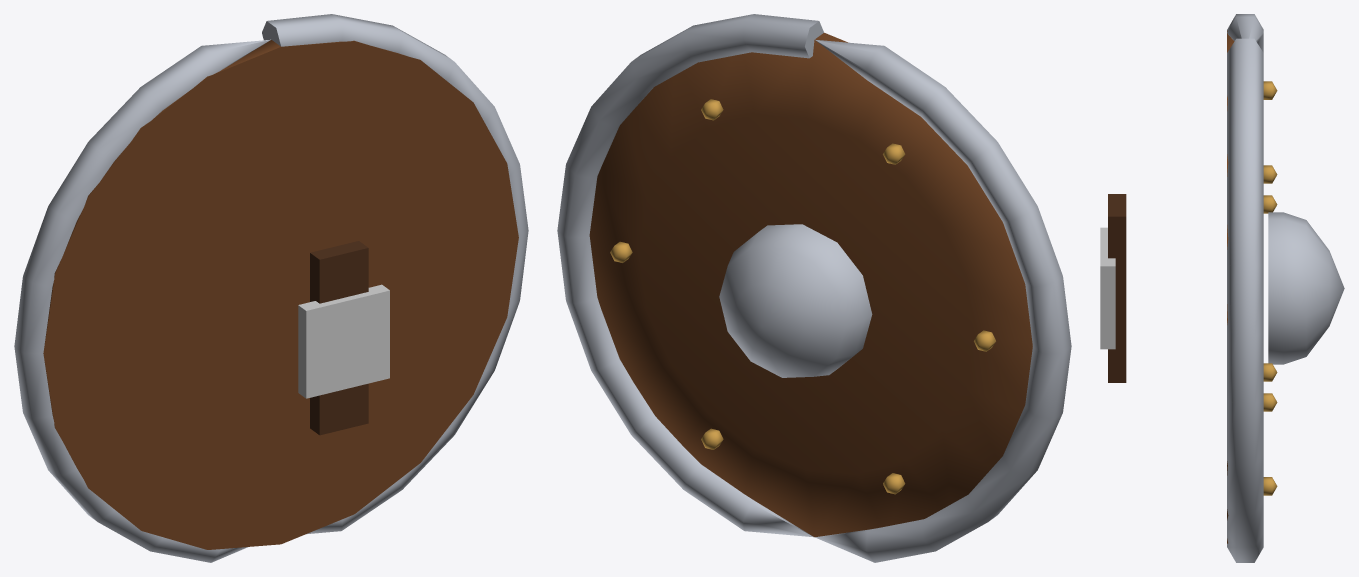
File: shield_buckler.glb
3 views of the same model, side by side, from view 1: azimuth 30°, elevation 25°; view 2: azimuth 150°, elevation 25°; view 3: azimuth 270°, elevation 25° (orthographic). The views are drawn at different scales.
Visible parts, largest first — view 1: Shield_Buckler_Wood, Shield_Buckler_Steel, Shield_Buckler_Trim, Shield_Buckler_Leather; view 2: Shield_Buckler_Wood, Shield_Buckler_Steel, Shield_Buckler_Brass; view 3: Shield_Buckler_Steel, Shield_Buckler_Leather, Shield_Buckler_Trim, Shield_Buckler_Brass.
Part boxes in pixels (x1,y1,x2,y2): Shield_Buckler_Wood: (43, 40, 518, 549); Shield_Buckler_Steel: (14, 14, 528, 562); Shield_Buckler_Trim: (298, 284, 389, 398); Shield_Buckler_Leather: (310, 241, 368, 435); Shield_Buckler_Wood: (589, 32, 1032, 537); Shield_Buckler_Steel: (557, 14, 1071, 562); Shield_Buckler_Brass: (610, 99, 995, 494); Shield_Buckler_Steel: (1227, 14, 1344, 562); Shield_Buckler_Leather: (1108, 194, 1126, 382); Shield_Buckler_Trim: (1100, 227, 1115, 349); Shield_Buckler_Brass: (1263, 81, 1277, 495).
Size of the model in its own units: 0.3608 by 0.3546 by 0.16.
